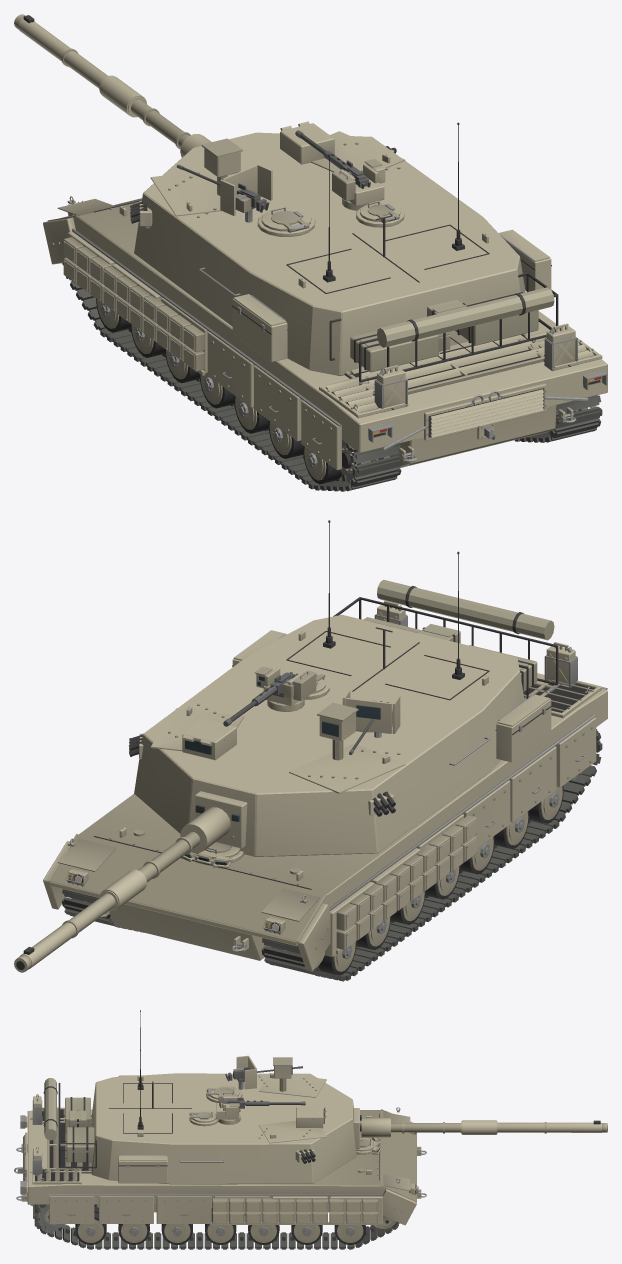
Rendered from usa_mbt_s2.glb.
3 views of the same model, one above another, from view 1: azimuth 30°, elevation 25°; view 2: azimuth 150°, elevation 25°; view 3: azimuth 270°, elevation 25° (orthographic). The views are drawn at different scales.
Visible parts, largest first — view 1: turret, body, barrel; view 2: turret, body, barrel; view 3: turret, body, barrel.
Boxes of the visible parts, x1,y1,x2,y2 form: turret: (130,121,558,382); body: (43,196,607,491); barrel: (14,14,211,157); turret: (129,520,558,856); body: (43,600,607,981); barrel: (14,807,230,972); turret: (43,1010,361,1184); body: (14,1094,426,1249); barrel: (361,1118,607,1137).
Bounding box in the file's own units: 4.18 × 4.09 × 12.1.
